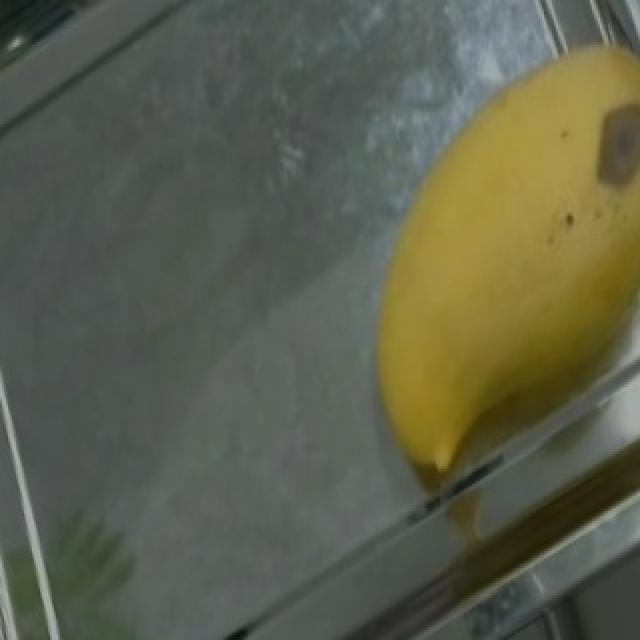fruit: (334, 5, 640, 429)
